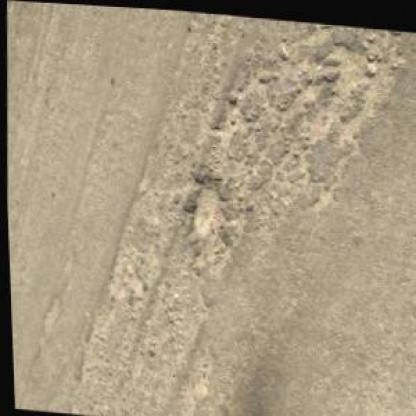pothole: (183, 170, 221, 238)
